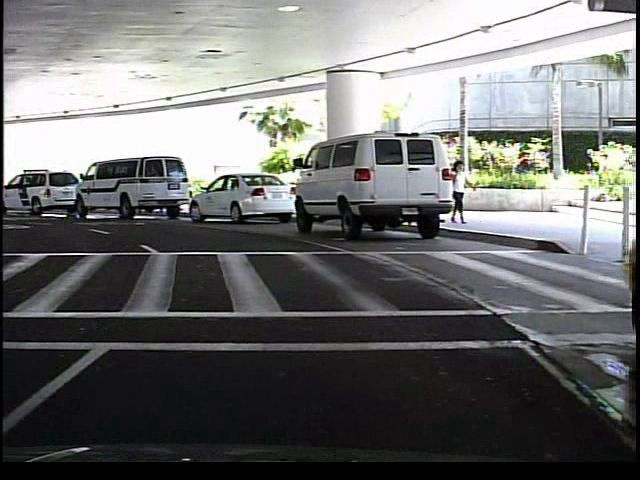person: (449, 154, 474, 226)
